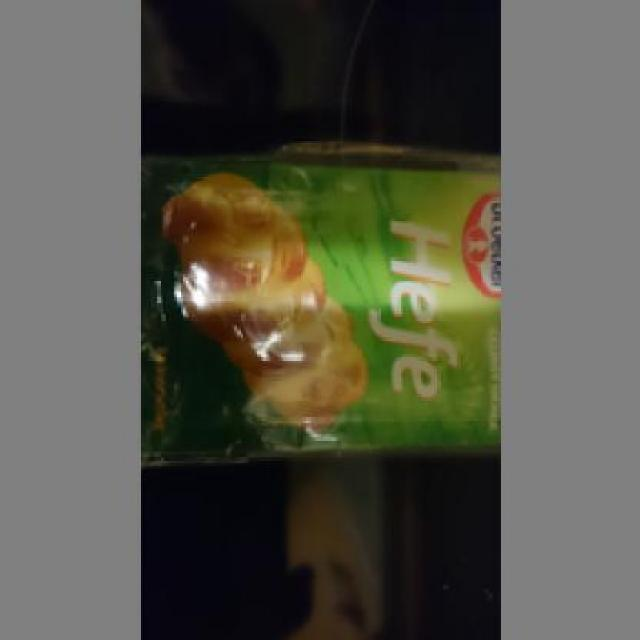Cake: (134, 153, 497, 470)
